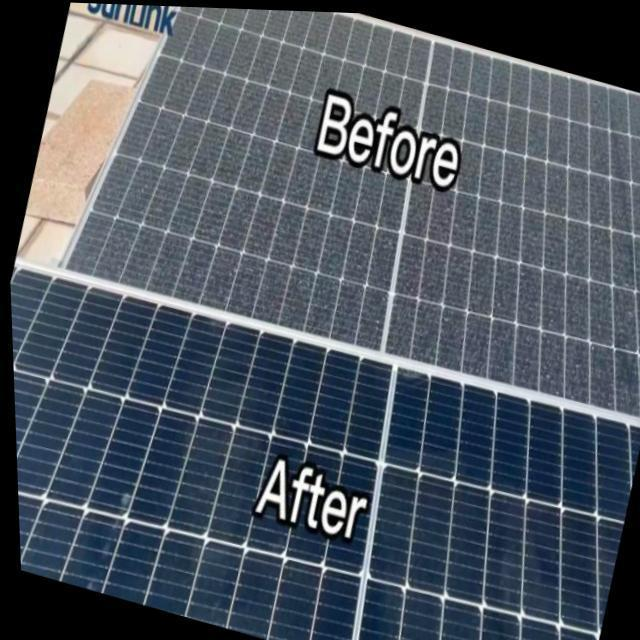Normal Solar Panel: (7, 250, 640, 640)
